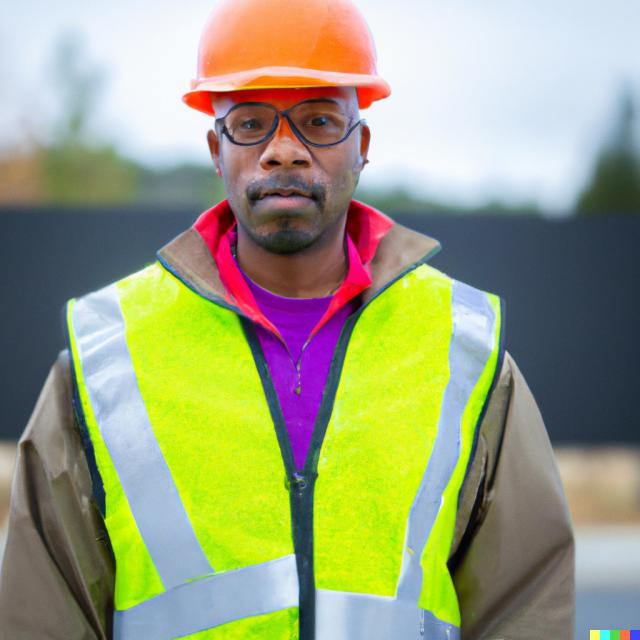Reflective-Jacket: (50, 225, 518, 640)
Safety-Helmet: (182, 0, 389, 118)
